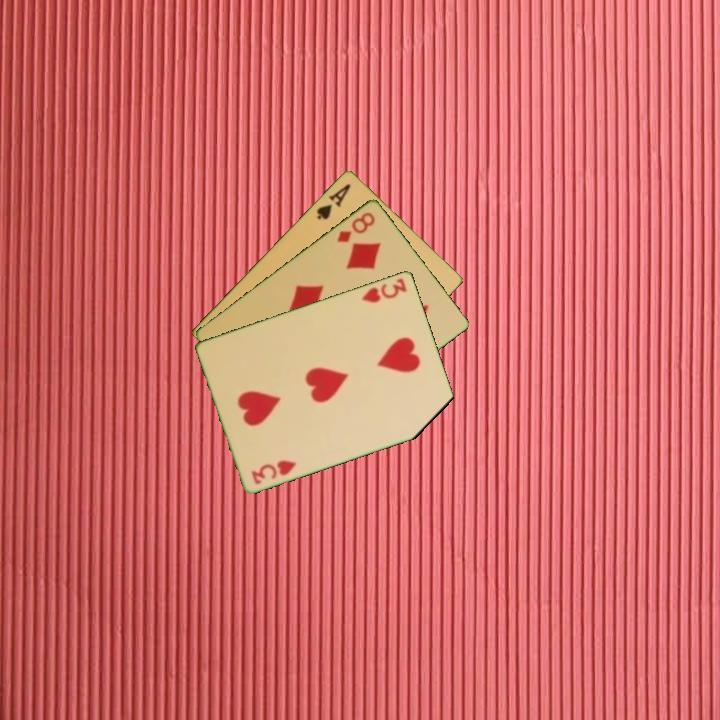3h: (358, 274, 410, 305), (248, 456, 300, 487)
8d: (333, 208, 378, 245)
As: (313, 180, 354, 223)
